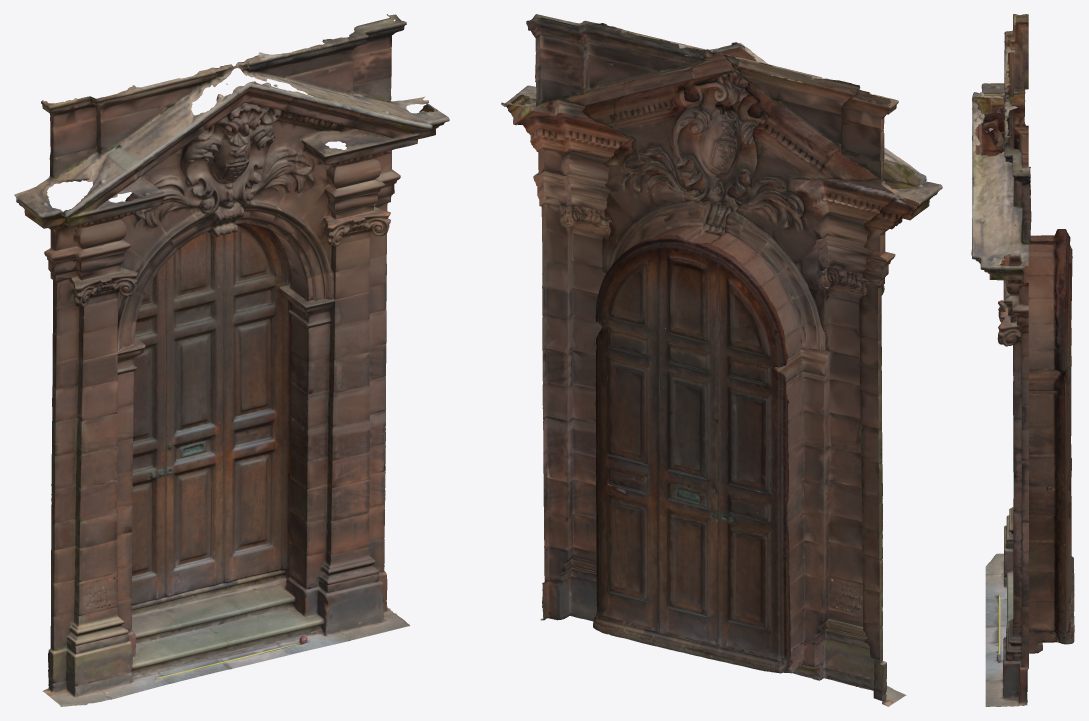
3 renders of one model, left to right at view 1: azimuth 30°, elevation 25°; view 2: azimuth 150°, elevation 25°; view 3: azimuth 270°, elevation 25°, orthographic. The views are drawn at different scales.
Parts seen in each view (by area): view 1: Model; view 2: Model; view 3: Model.
Part boxes in pixels (x1,y1,x2,y2): Model: (14,14,449,706); Model: (501,14,942,706); Model: (971,14,1074,706).
Bounding box in the file's own units: 4.39 × 5.89 × 1.02.
1 material, 1 textured.
